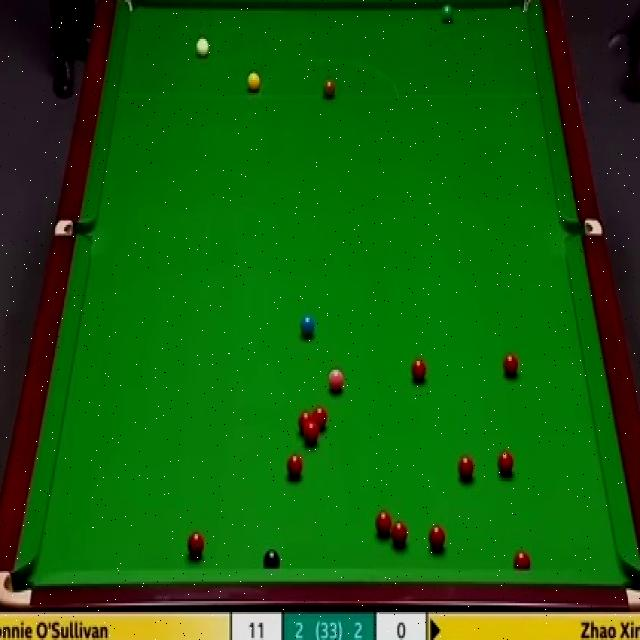black-ball: (262, 545, 281, 570)
blue-ball: (298, 314, 316, 340)
brown-ball: (321, 76, 336, 101)
green-ball: (439, 3, 455, 24)
pink-ball: (328, 364, 345, 393)
red-ball: (390, 518, 409, 552), (186, 532, 205, 560), (411, 355, 428, 386), (427, 524, 445, 553), (497, 449, 514, 477), (375, 509, 392, 537), (288, 452, 305, 479), (502, 351, 519, 378), (457, 456, 474, 482), (313, 406, 328, 433), (514, 549, 531, 570), (298, 410, 312, 432), (304, 424, 318, 445)
white-ball: (195, 36, 212, 60)
yellow-ball: (245, 70, 260, 92)
